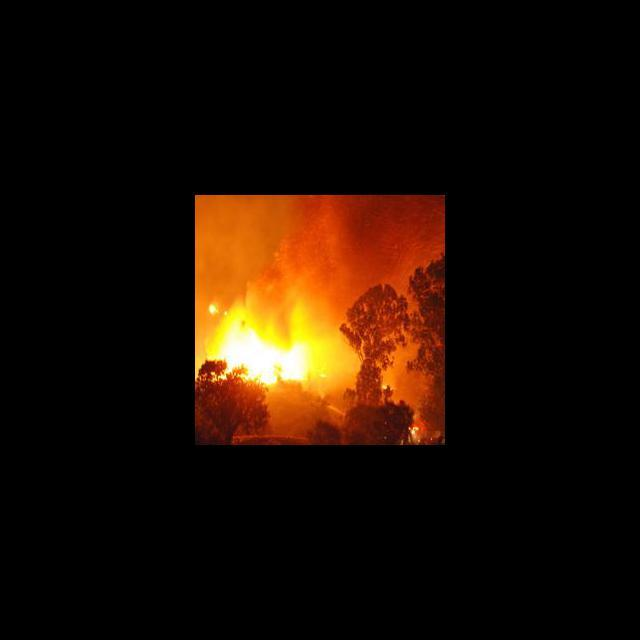Fire: (205, 304, 328, 390)
